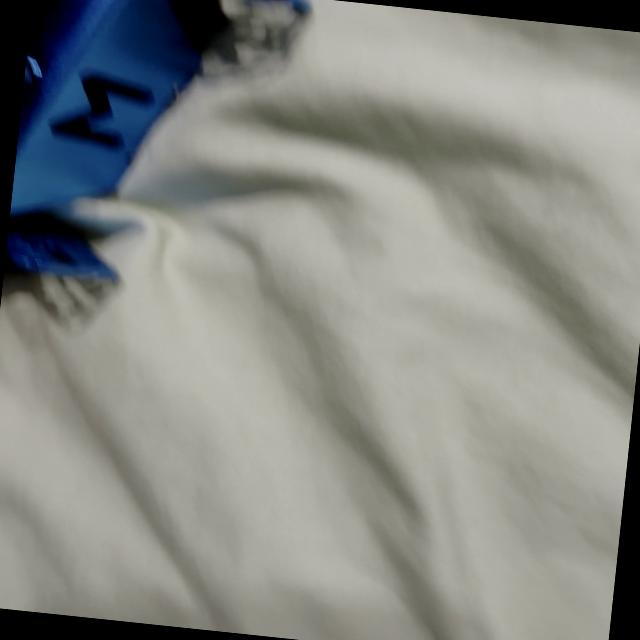mbot-detection: (1, 0, 346, 325)
